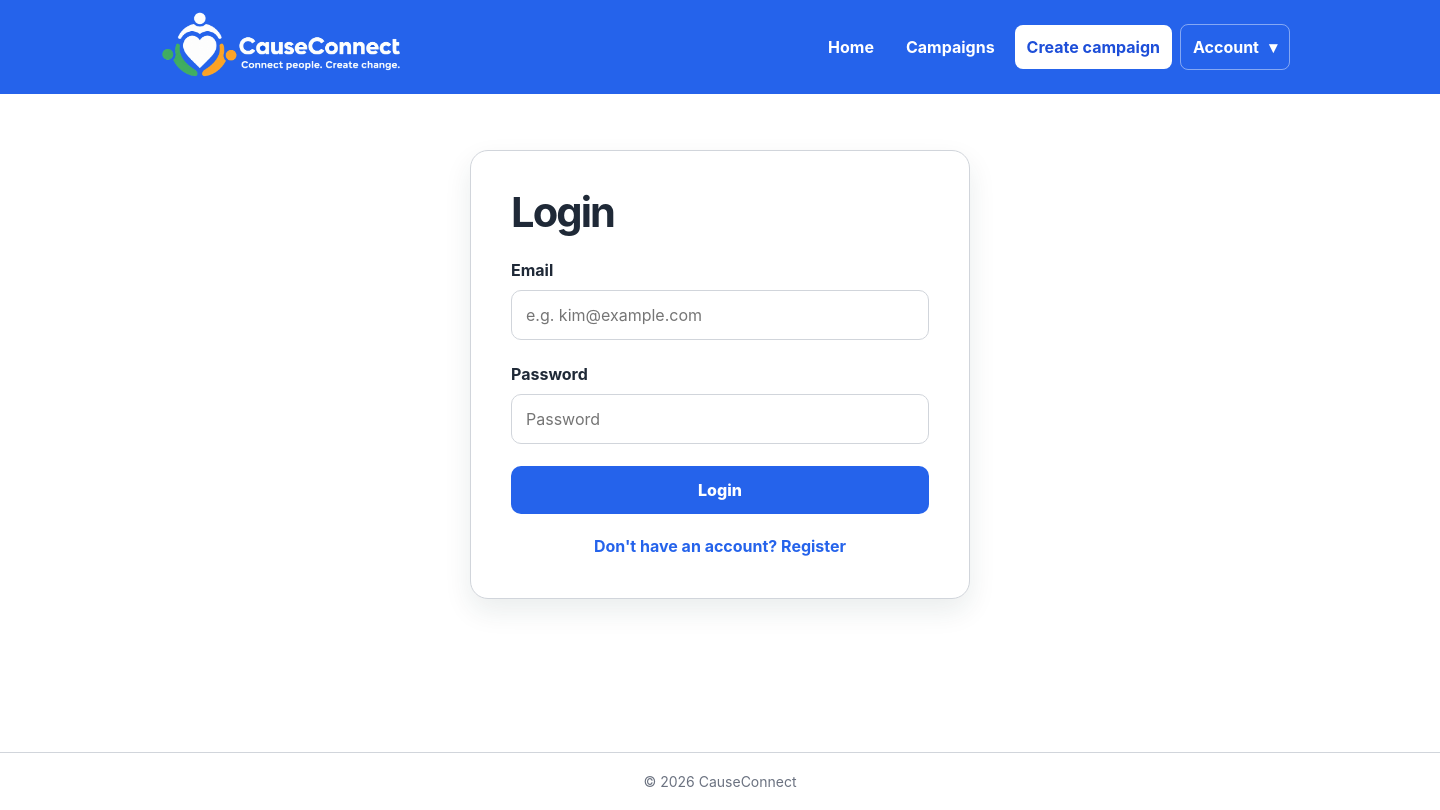
CauseConnect login page › keeps storage-failure feedback visible when a failed account switch clears the starting session
In the field labelled "Email": (720, 315) x1=511 y1=290 x2=929 y2=340, type "sam@example.test"
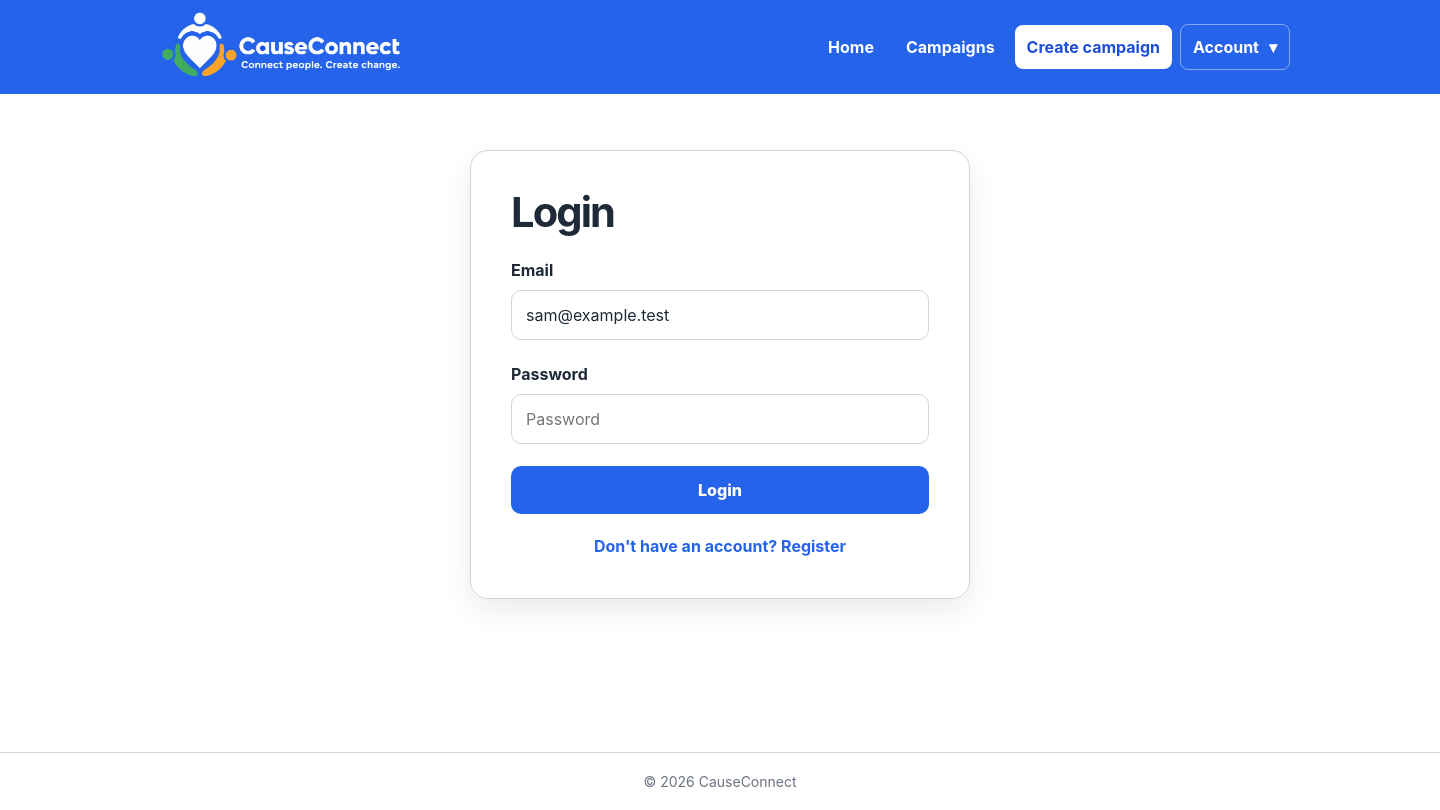
In the password field labelled "Password": (720, 419) x1=511 y1=394 x2=929 y2=444, type "Password123!"
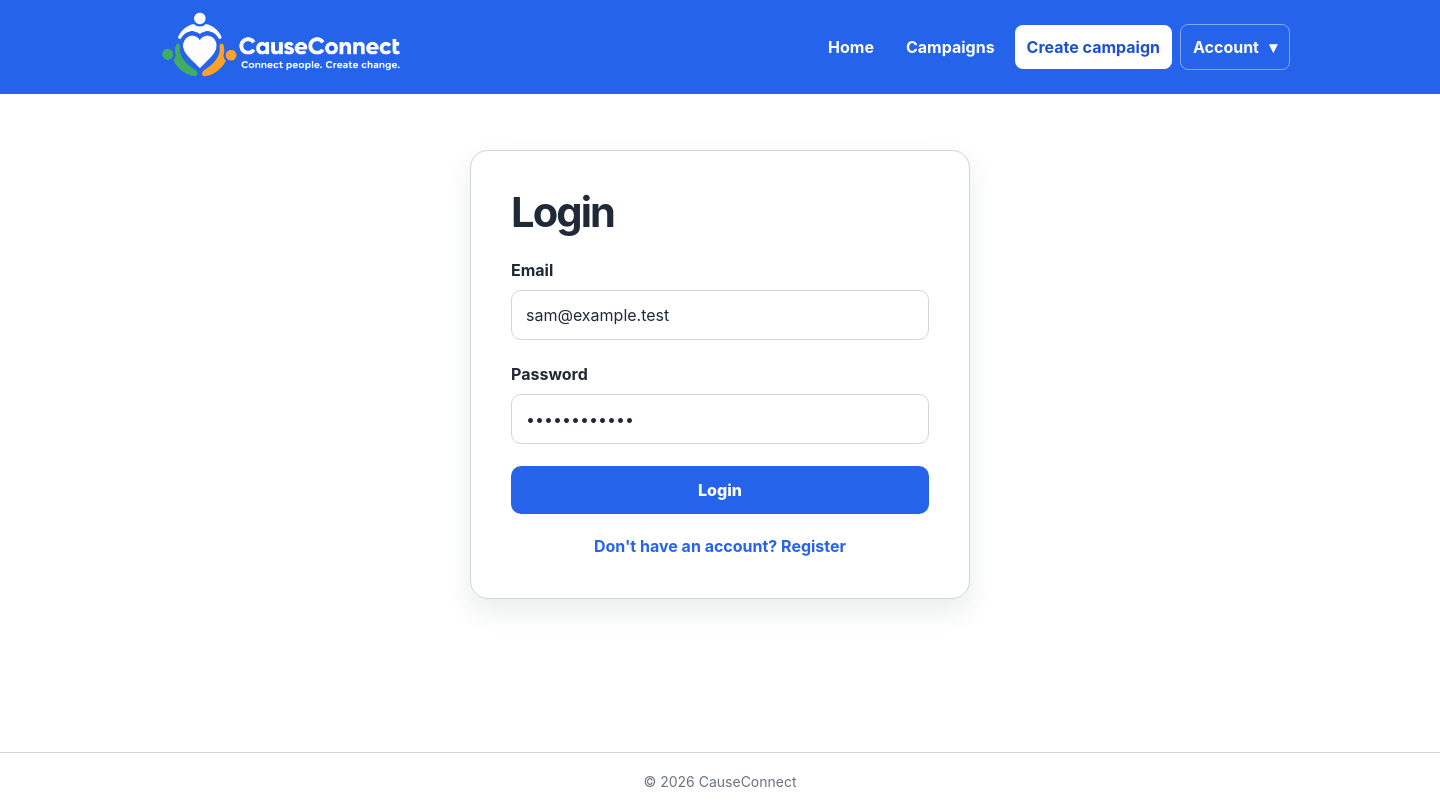
Click the button "Login": (720, 490) x1=511 y1=466 x2=929 y2=514
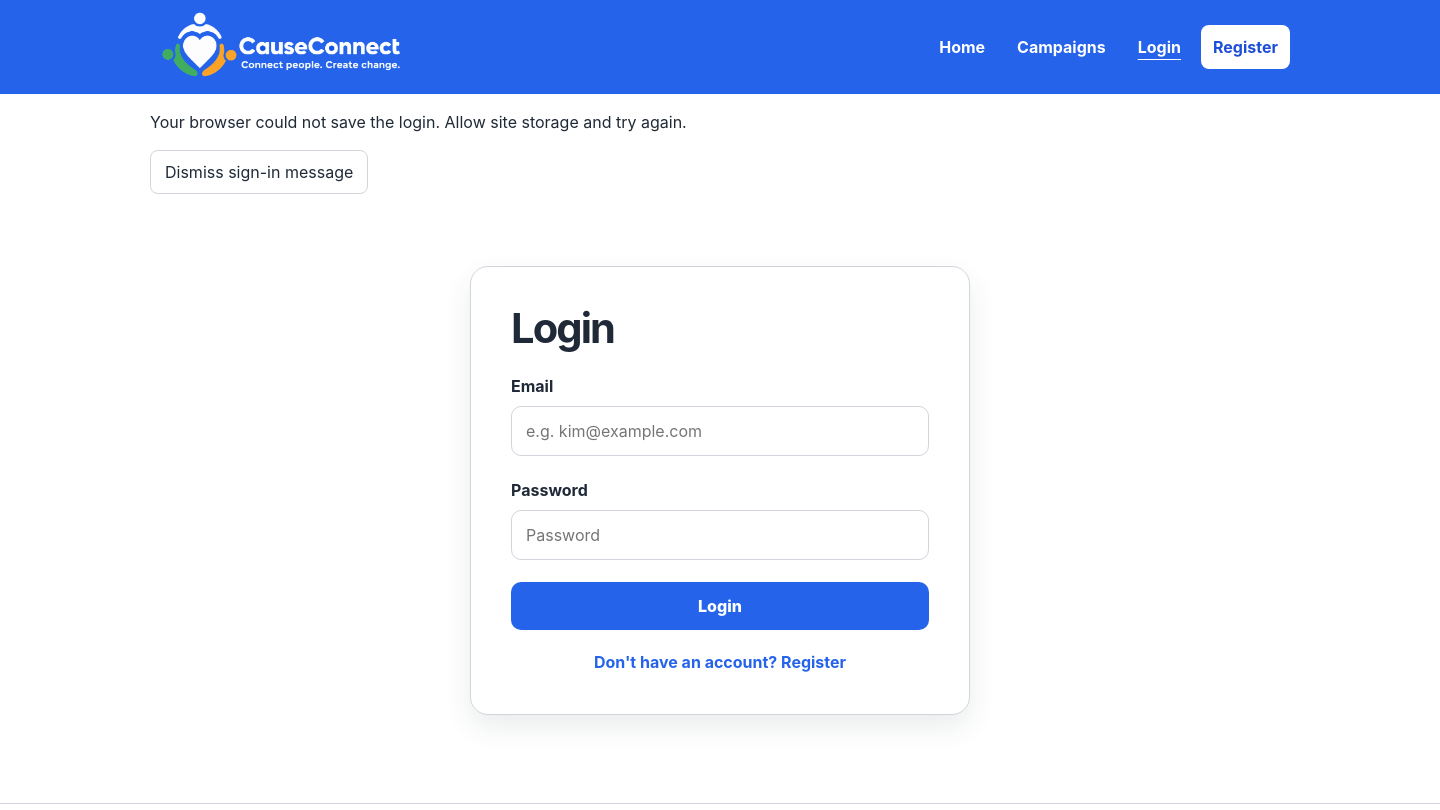
Now the message shows "Allow site storage and try again", box x1=150 y1=112 x2=687 y2=132
Now the number of messages is 1, box x1=150 y1=112 x2=687 y2=194
In the field labelled "Email": (720, 431) x1=511 y1=406 x2=929 y2=456, type "sam@example.test"
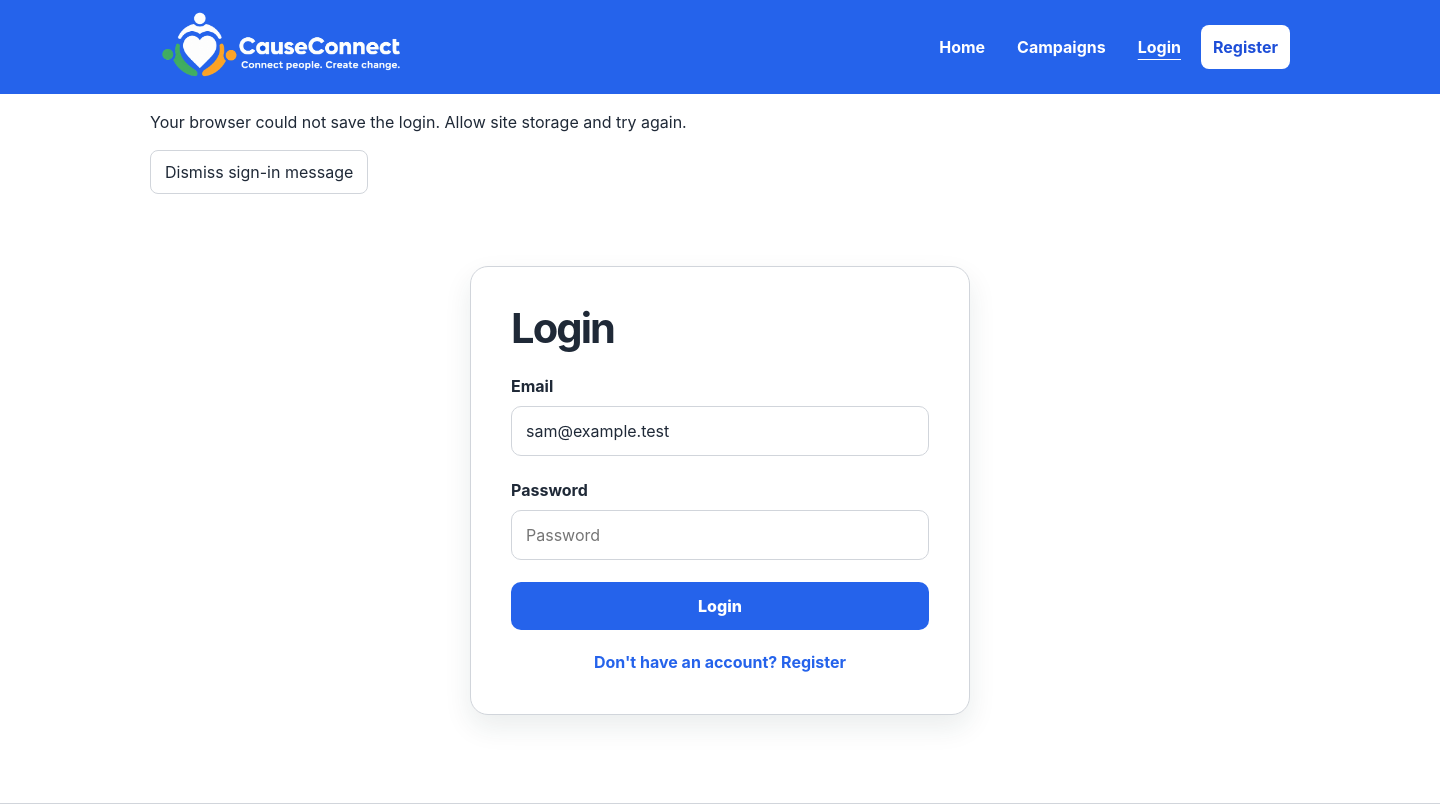
In the password field labelled "Password": (720, 535) x1=511 y1=510 x2=929 y2=560, type "Password123!"
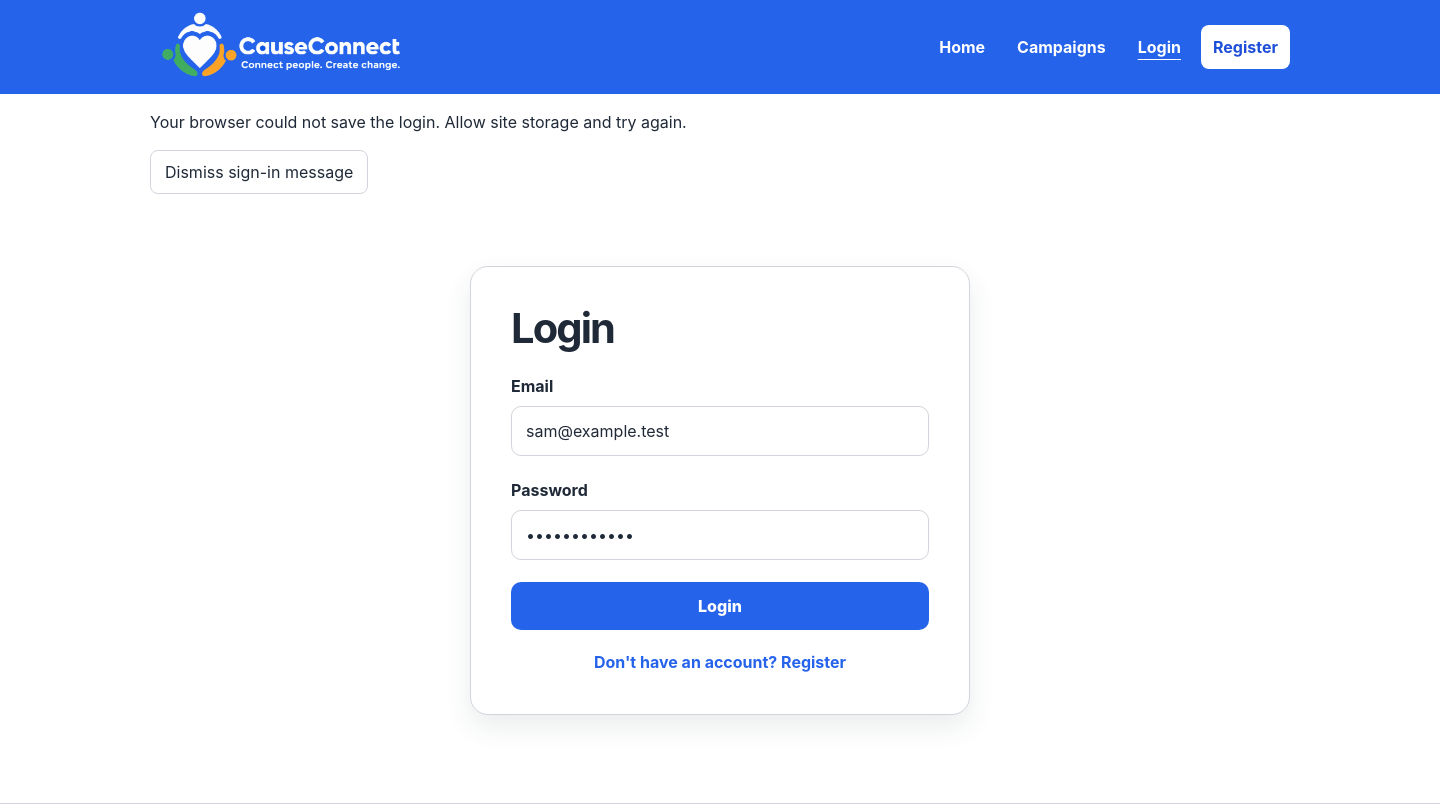
Click the button "Login": (720, 606) x1=511 y1=582 x2=929 y2=630
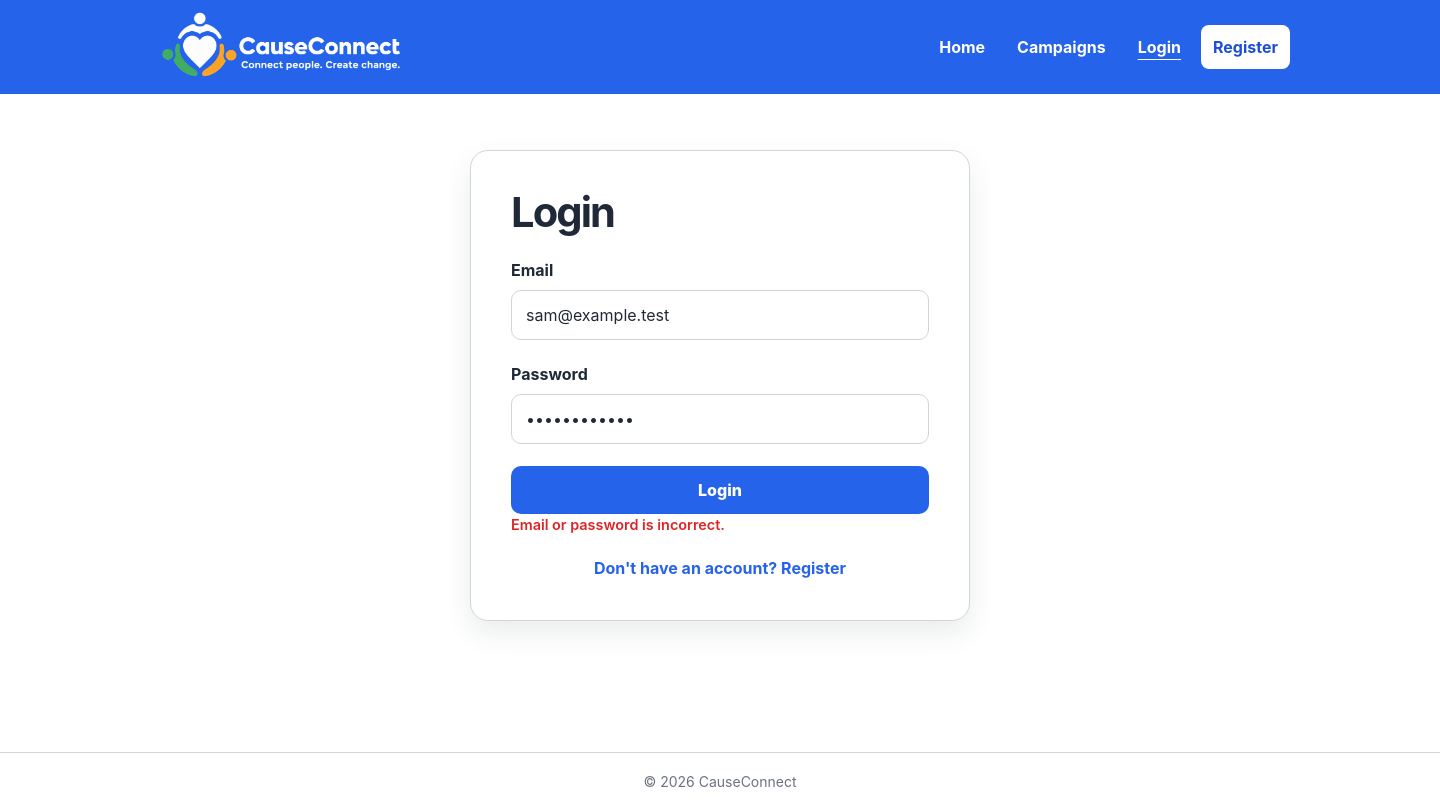
Now the number of messages is 1, box x1=511 y1=516 x2=725 y2=533
Now the message reads "Email or password is incorrect.", box x1=511 y1=516 x2=725 y2=533
Now the text "Allow site storage and try again" is gone
